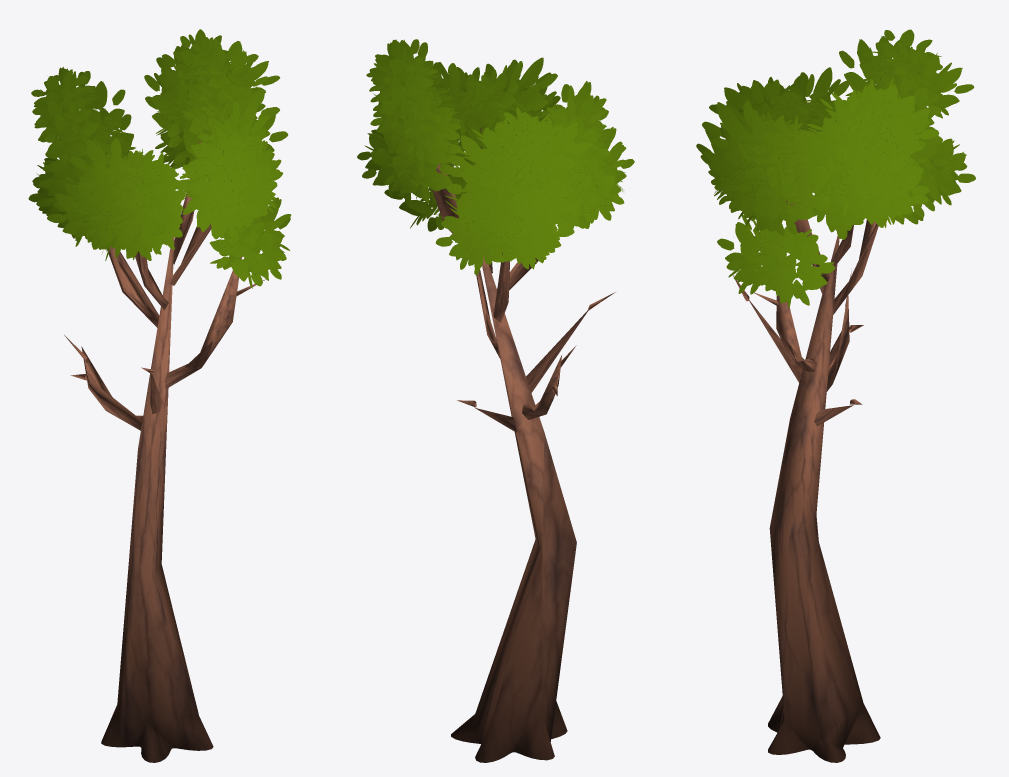
Rendered from mk-common-4-lo.glb.
3 views of the same model, side by side, from view 1: azimuth 30°, elevation 25°; view 2: azimuth 150°, elevation 25°; view 3: azimuth 270°, elevation 25° (orthographic). The views are drawn at different scales.
Parts seen in each view (by area): view 1: CommonTree_4; view 2: CommonTree_4; view 3: CommonTree_4.
Part boxes in pixels (bbox=[...]): CommonTree_4: bbox=[28, 29, 291, 762]; CommonTree_4: bbox=[357, 39, 634, 762]; CommonTree_4: bbox=[696, 29, 975, 762].
Size of the model in its own units: 3.88 by 9.46 by 3.81.
2 materials, 2 textured.
